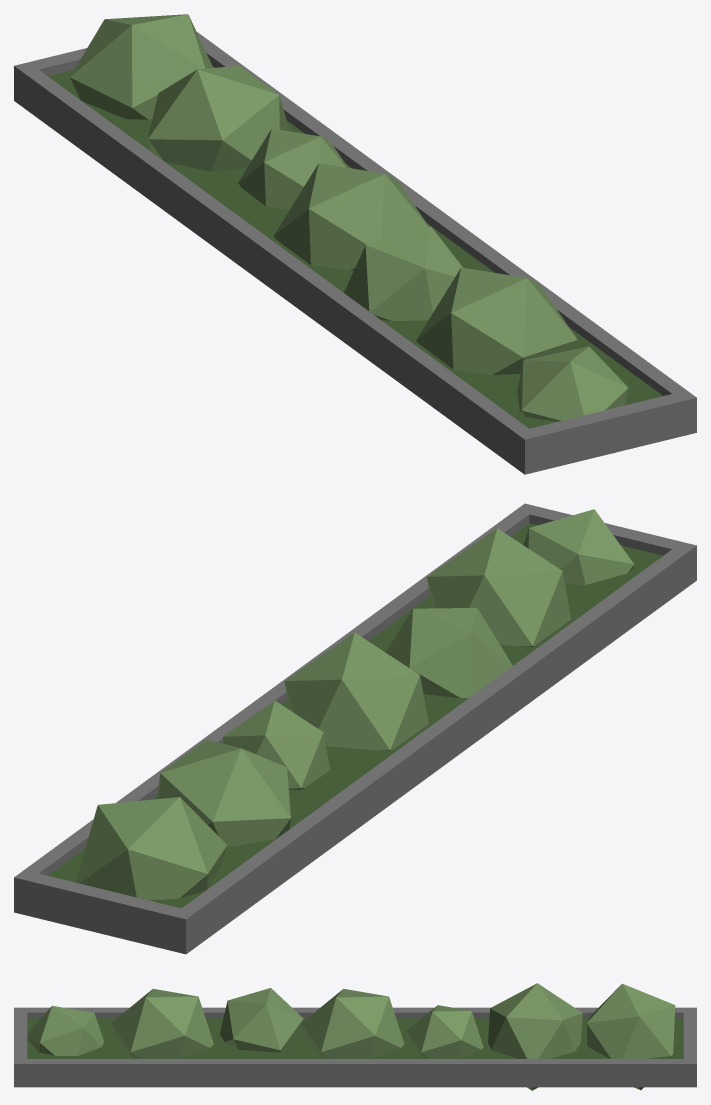
File: flowerbox.gltf
The picture shows the model from 3 angles, top to bottom: view 1: azimuth 30°, elevation 25°; view 2: azimuth 150°, elevation 25°; view 3: azimuth 270°, elevation 25°; orthographic projection. The views are drawn at different scales.
Parts seen in each view (by area): view 1: Cube.005, Icosphere.003, Icosphere.006, Icosphere.002, Icosphere.008, Icosphere.001, Icosphere.004, Icosphere.005; view 2: Cube.005, Icosphere.008, Icosphere.002, Icosphere.003, Icosphere.006, Icosphere.001, Icosphere.004, Icosphere.005; view 3: Cube.005, Icosphere.006, Icosphere.003, Icosphere.002, Icosphere.008, Icosphere.001, Icosphere.005, Icosphere.004.
Boxes of the visible parts, x1,y1,x2,y2 form: Cube.005: [14, 31, 696, 474]; Icosphere.003: [416, 267, 577, 374]; Icosphere.006: [148, 65, 289, 171]; Icosphere.002: [274, 163, 428, 270]; Icosphere.008: [70, 14, 212, 119]; Icosphere.001: [344, 226, 462, 320]; Icosphere.004: [517, 346, 628, 421]; Icosphere.005: [238, 128, 348, 209]; Cube.005: [14, 503, 696, 954]; Icosphere.008: [76, 797, 227, 900]; Icosphere.002: [284, 632, 428, 751]; Icosphere.003: [427, 528, 571, 646]; Icosphere.006: [157, 739, 290, 847]; Icosphere.001: [385, 607, 512, 698]; Icosphere.004: [523, 509, 634, 584]; Icosphere.005: [222, 700, 330, 789]; Cube.005: [14, 1007, 696, 1087]; Icosphere.006: [488, 983, 582, 1090]; Icosphere.003: [111, 988, 213, 1058]; Icosphere.002: [302, 988, 404, 1058]; Icosphere.008: [587, 983, 675, 1090]; Icosphere.001: [220, 988, 303, 1052]; Icosphere.005: [407, 1005, 483, 1058]; Icosphere.004: [27, 1005, 103, 1055].
Size of the model in its own units: 3.46 by 2.73 by 17.8.
